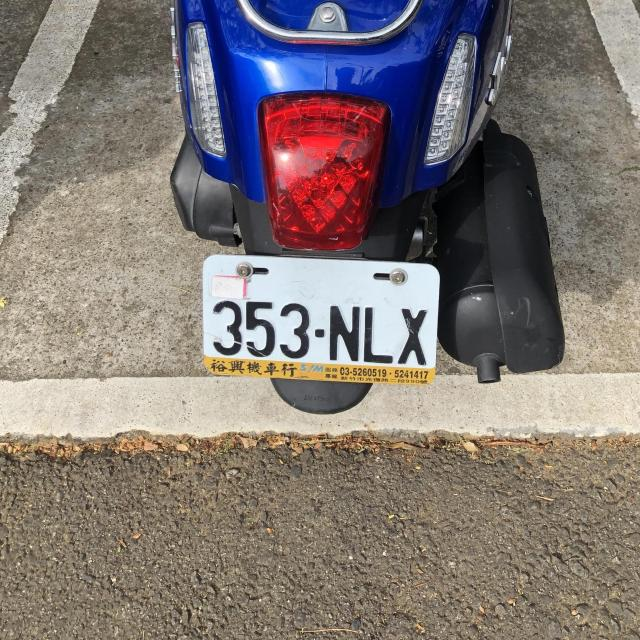W: (197, 251, 440, 386)
